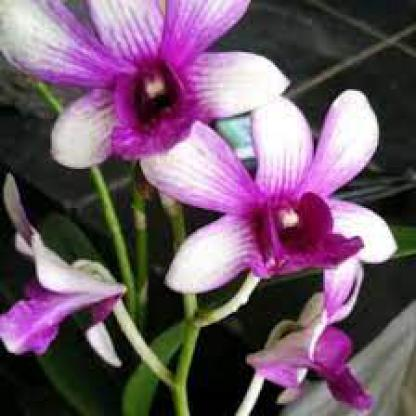ANGGREK: (7, 6, 400, 406)
